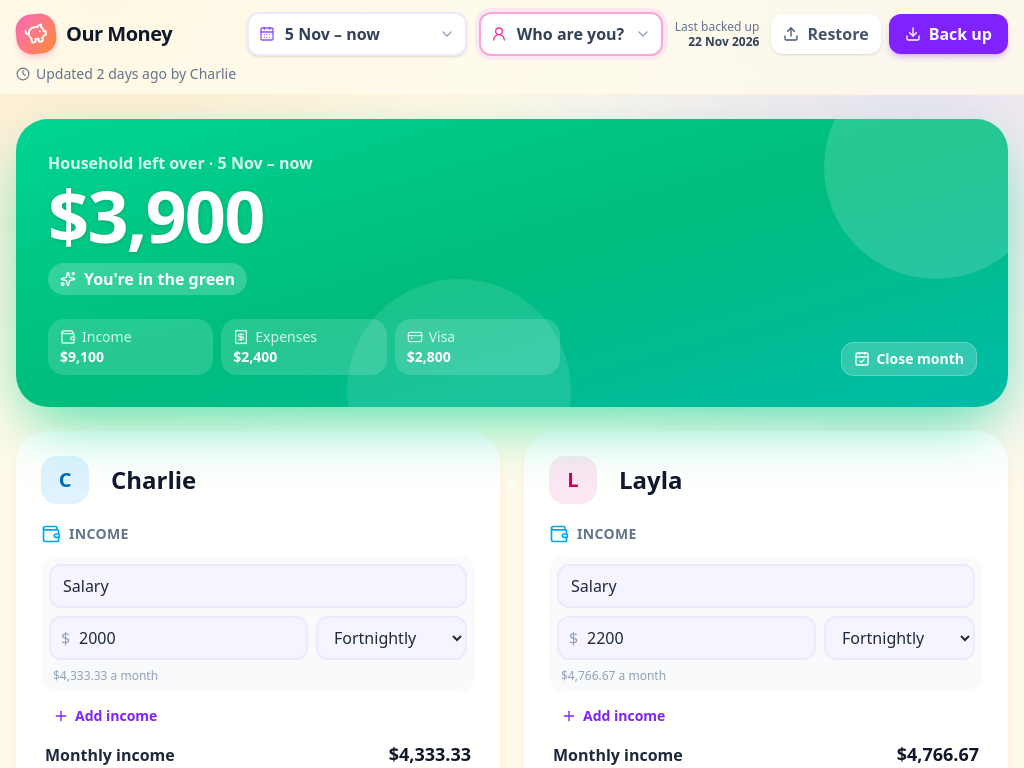
Scenario: Restore › says so when everything is already backed up
Click the button "Restore" at point(826, 34), box [771, 14, 881, 54]
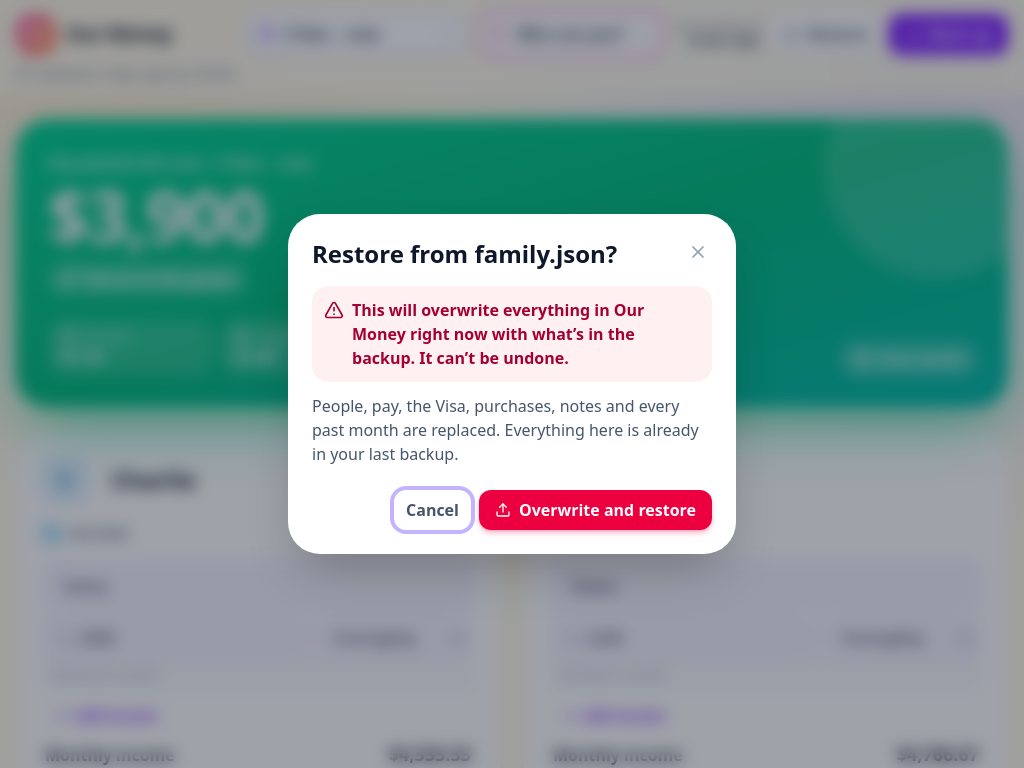
Expected: the dialog shows "Everything here is already in your last backup.", [312, 419, 699, 465]
